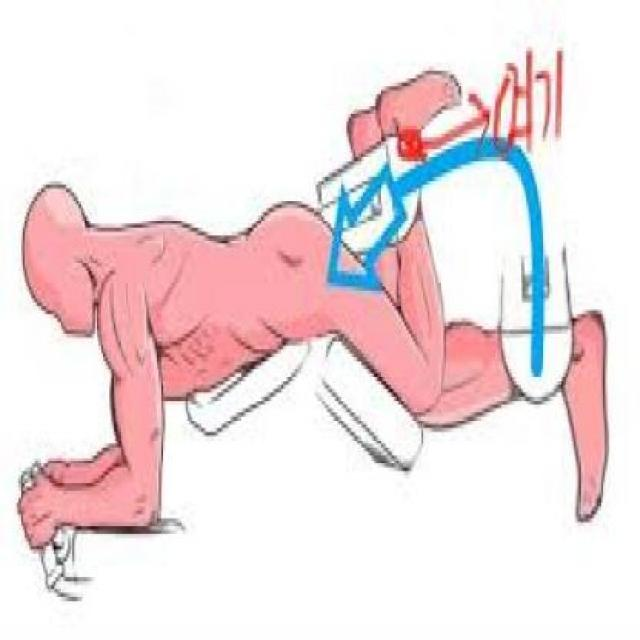reg curl machine: (0, 51, 614, 589)
